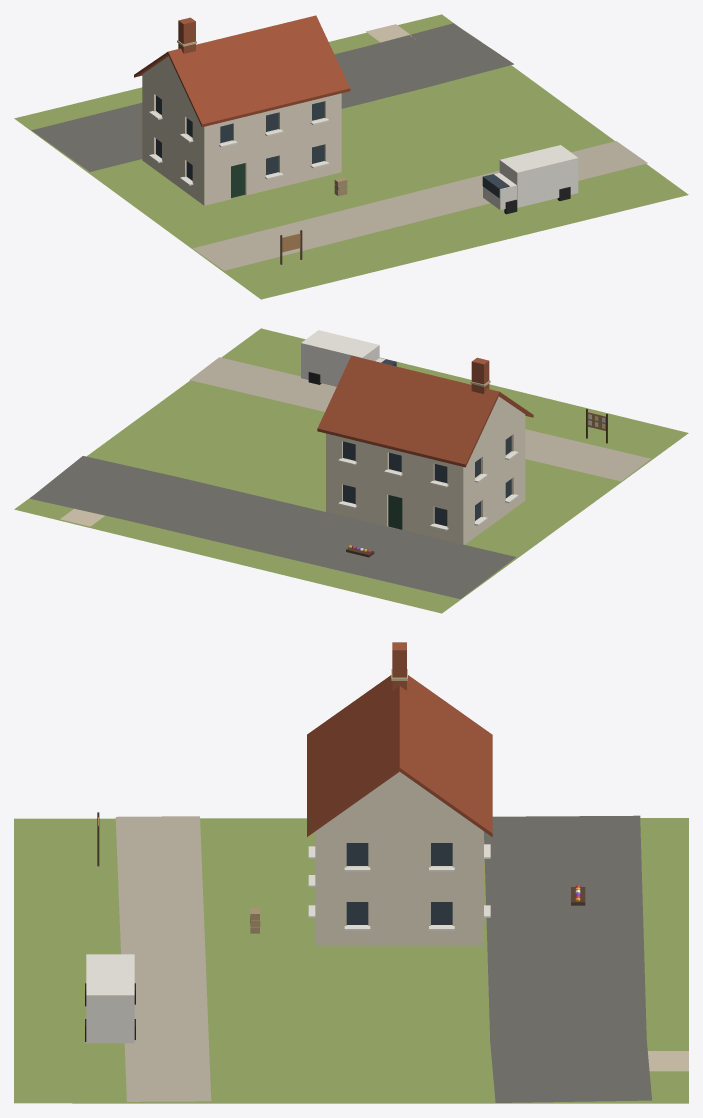
File: tea_room.glb
3 views of the same model, one above another, from view 1: azimuth 30°, elevation 25°; view 2: azimuth 150°, elevation 25°; view 3: azimuth 270°, elevation 25° (orthographic). The views are drawn at different scales.
Visible parts, largest first — view 1: ground, ground_lanes, tea_room_shell, cut_roof_tea_room, prop_van, tea_room_walls, prop_staffboard; view 2: ground, ground_lanes, tea_room_shell, cut_roof_tea_room, prop_van, tea_room_walls; view 3: ground, ground_lanes, tea_room_shell, cut_roof_tea_room, prop_van, tea_room_walls.
Part boxes in pixels (x1,y1,x2,y2): ground: (14,14,688,299); ground_lanes: (31,23,647,270); tea_room_shell: (142,56,341,205); cut_roof_tea_room: (134,15,350,127); prop_van: (482,145,578,214); tea_room_walls: (149,95,329,197); prop_staffboard: (280,230,302,264); ground: (14,328,688,613); ground_lanes: (30,357,650,599); tea_room_shell: (326,396,525,544); cut_roof_tea_room: (317,355,533,467); prop_van: (301,330,396,386); tea_room_walls: (338,435,518,530); ground: (14,818,688,1103); ground_lanes: (115,815,688,1102); tea_room_shell: (315,771,483,945); cut_roof_tea_room: (307,642,492,836); prop_van: (85,954,135,1043); tea_room_walls: (308,843,490,930).
Bounding box in the file's own units: 28.16 × 10.16 × 28.
